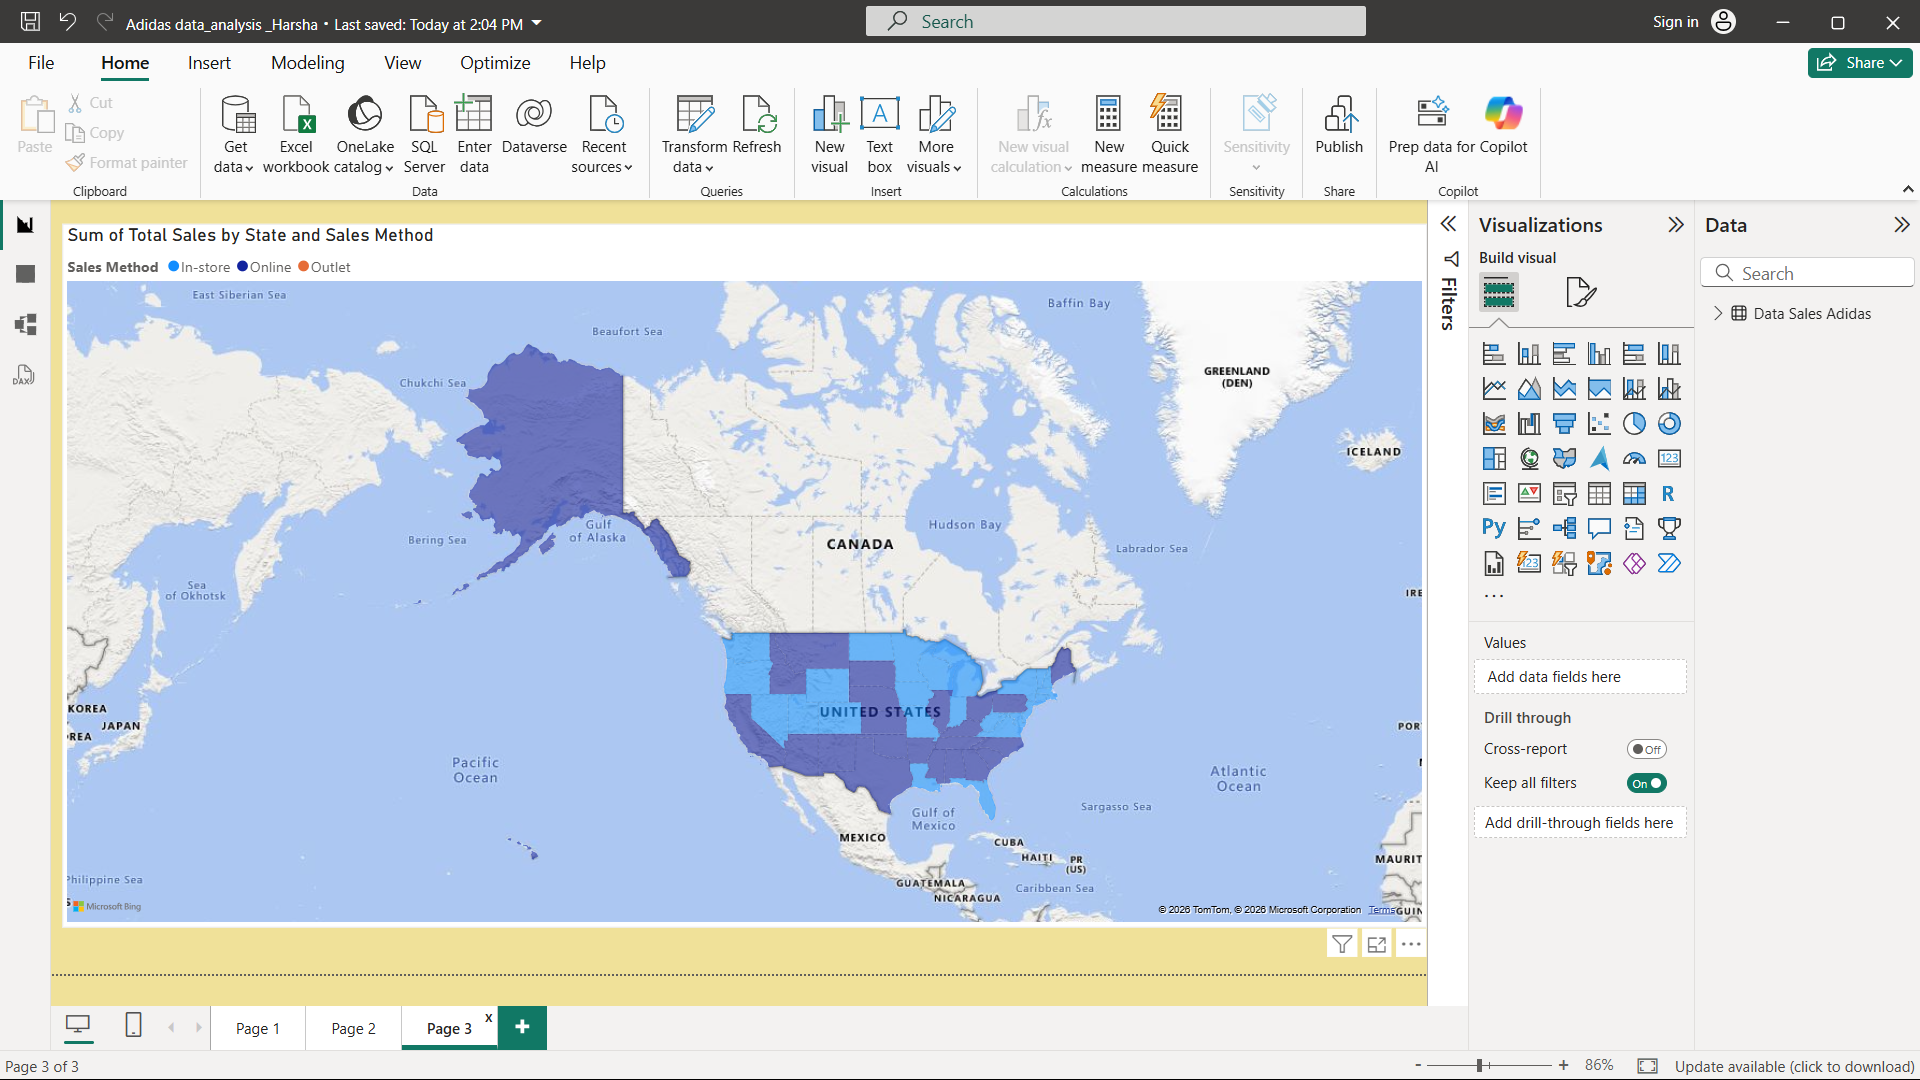

This screenshot's page, from the dashboard's own definition file:
{"tool":"powerbi","page":{"name":"Page 3","canvas":[1280,720],"ordinal":2},"visuals":[{"type":"filledMap","fields":{"Series":["Data Sales Adidas.Sales Method"],"Category":["Data Sales Adidas.State"]},"box":[10.5,22.1,1269.8,654.7],"z":0}]}

Visuals, with their boxes on the page's 1280x720 design canvas (x1, y1, x2, y2). These are canvas units, not pixel positions in the 1920x1080 screenshot, which may show the page scaled, cropped or inside an application window:
filledMap - Data Sales Adidas.Sales Method x Data Sales Adidas.State: rect(10, 22, 1280, 677)
